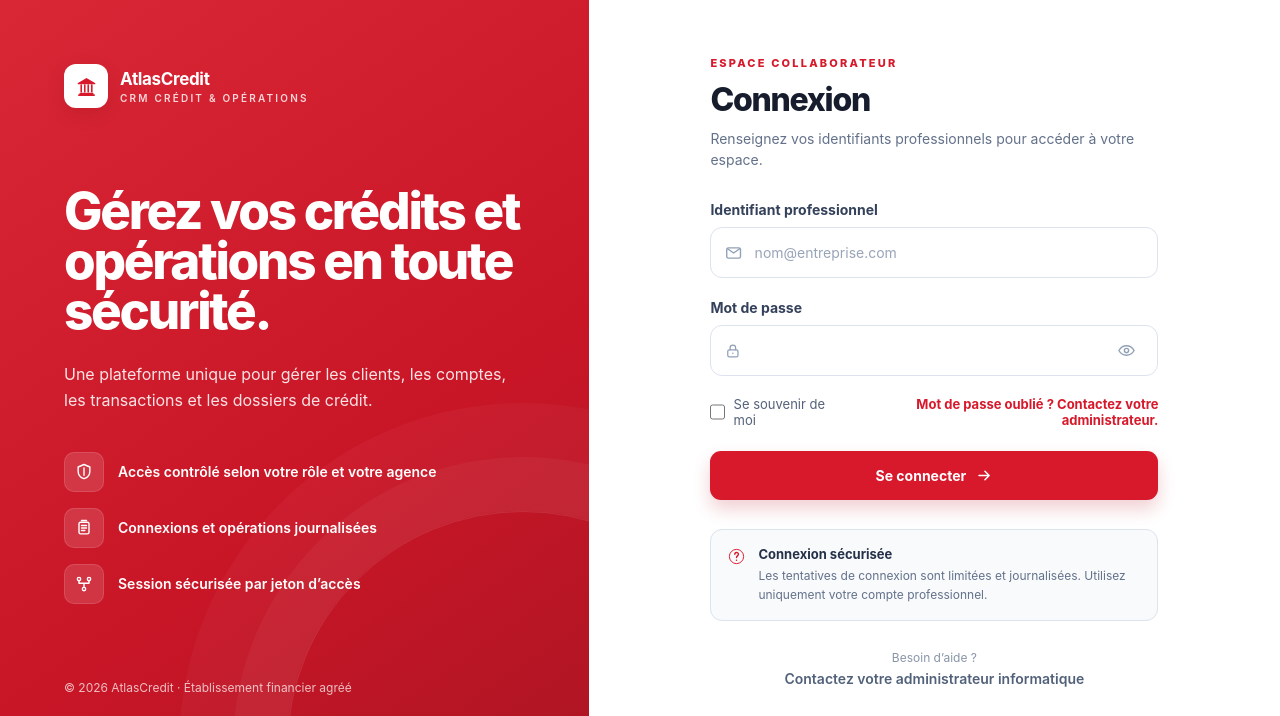
Test case: shows the backend login error and remains on the sign-in page
The width and height of the screenshot is (1280, 716).
Type "aminata@example.test" into the field labelled "Identifiant professionnel" at (943, 253), box left=743, top=228, right=1143, bottom=277
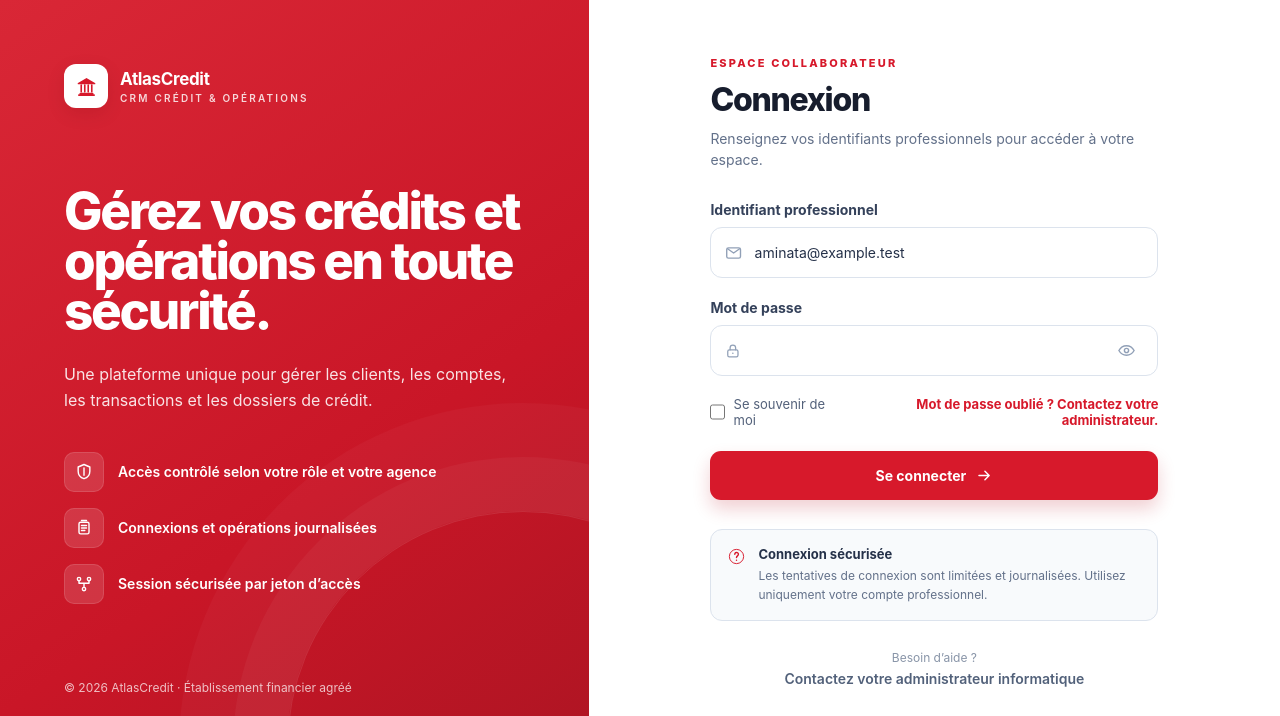
Type "wrong-password" into the password field labelled "Mot de passe" at (925, 351), box left=741, top=326, right=1109, bottom=375
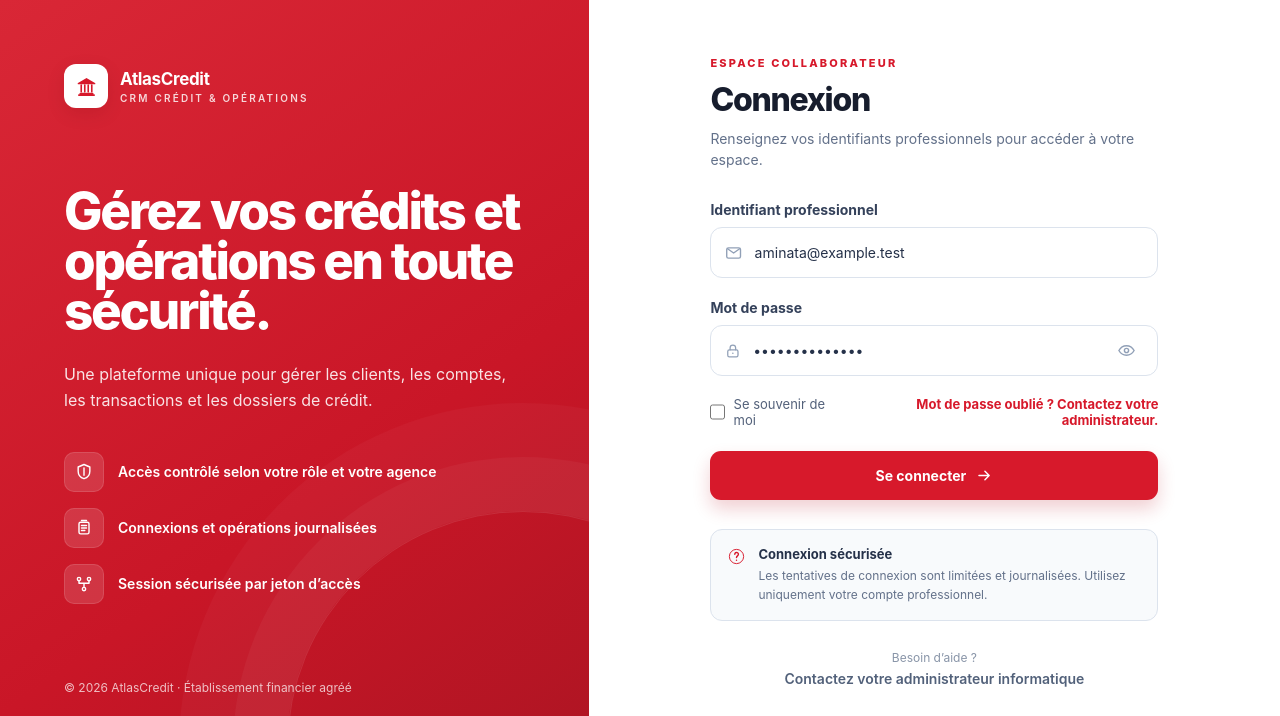
Click the button "Se connecter" at (934, 476), box left=710, top=451, right=1158, bottom=500
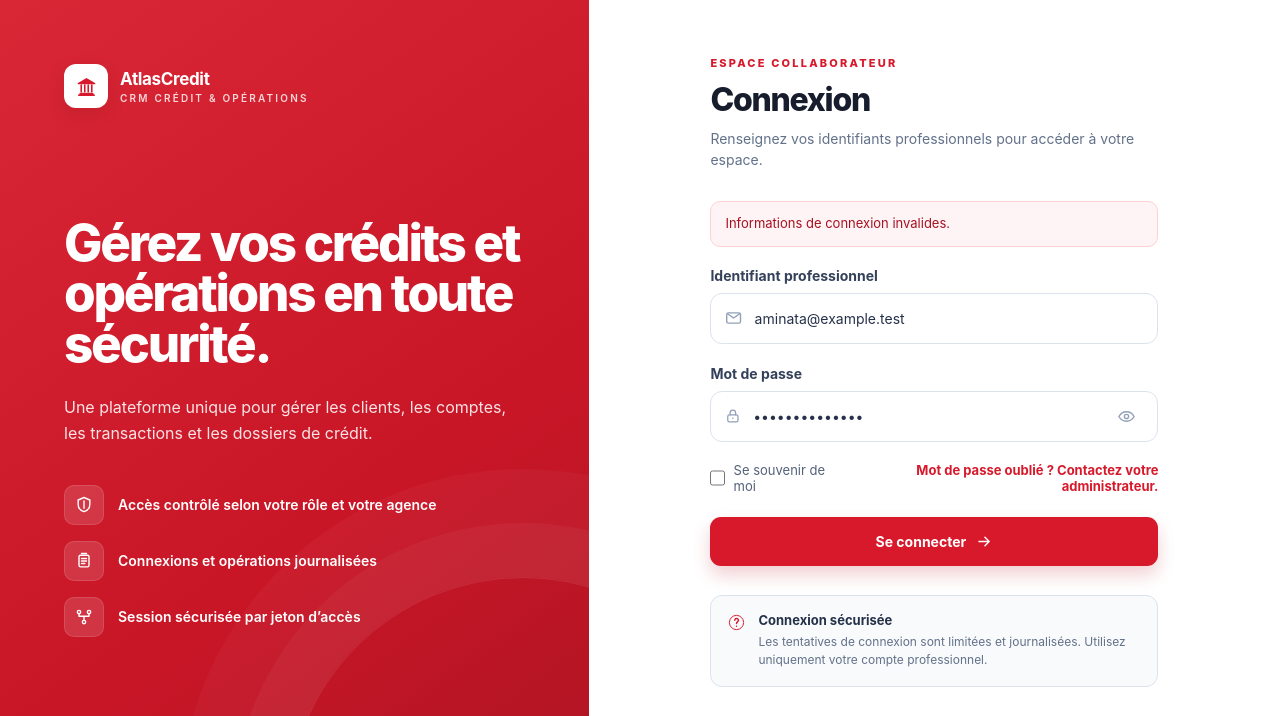
expect the heading "Connexion" is shown: met, box left=710, top=80, right=870, bottom=119
expect the message reads "Informations de connexion invalides.": met, box left=725, top=215, right=950, bottom=231
